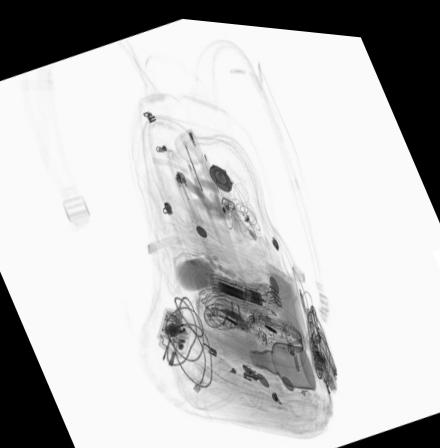Lighter: (172, 165, 203, 221)
